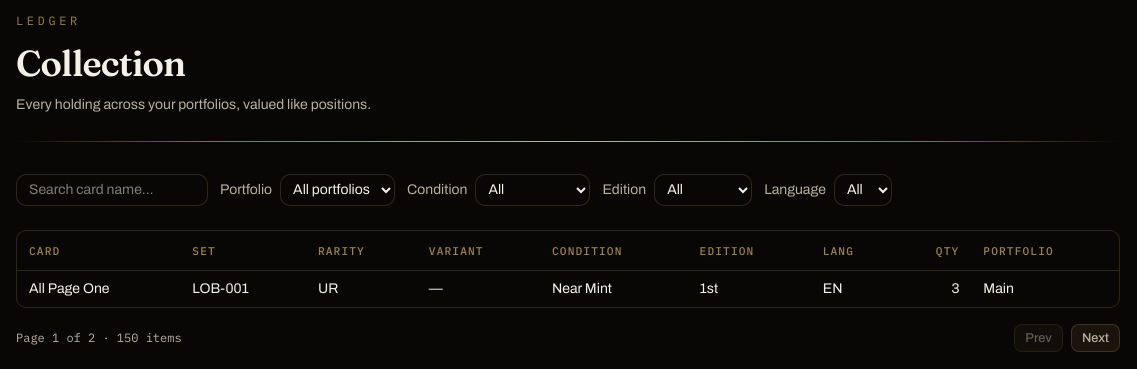
CollectionPage › filters by portfolio and resets to page 1
This screenshot has width=1137, height=369.
Expected: the text "All Page One" is shown, [17,271,180,307]
Click the button "Next" at [1095, 338], box [1071,324,1120,352]
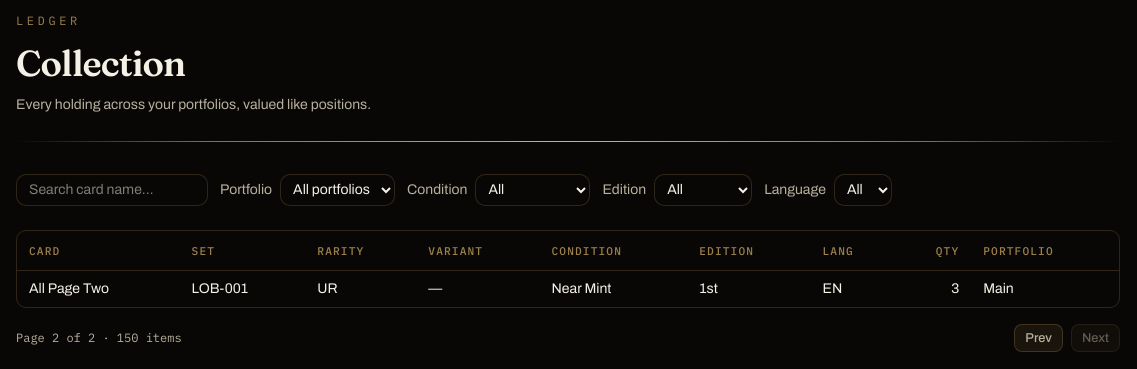
Result: the text "All Page Two" is shown at [17,271,180,307]
Result: the text "Page 2 of 2 · 150 items" is shown at [16,330,182,346]
Select "Vintage" in the dropdown named "filter by portfolio" at [338, 190], box [280,174,395,206]
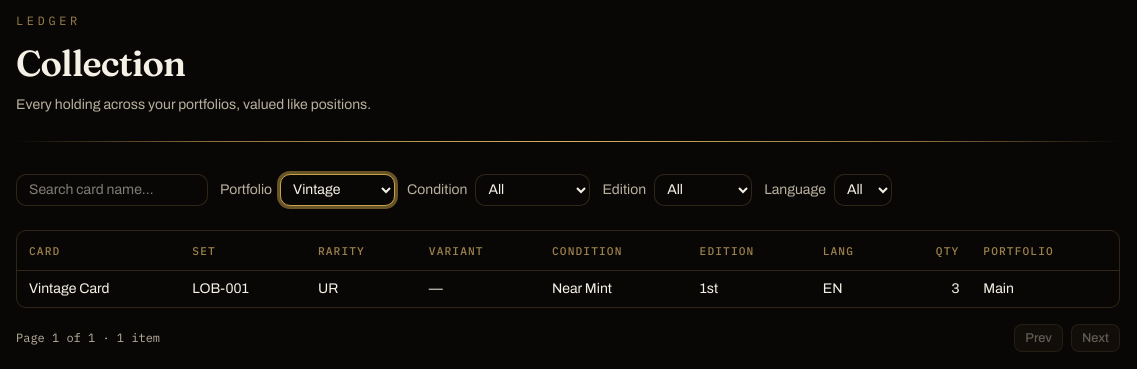
Result: the text "Vintage Card" is shown at [17,271,180,307]
